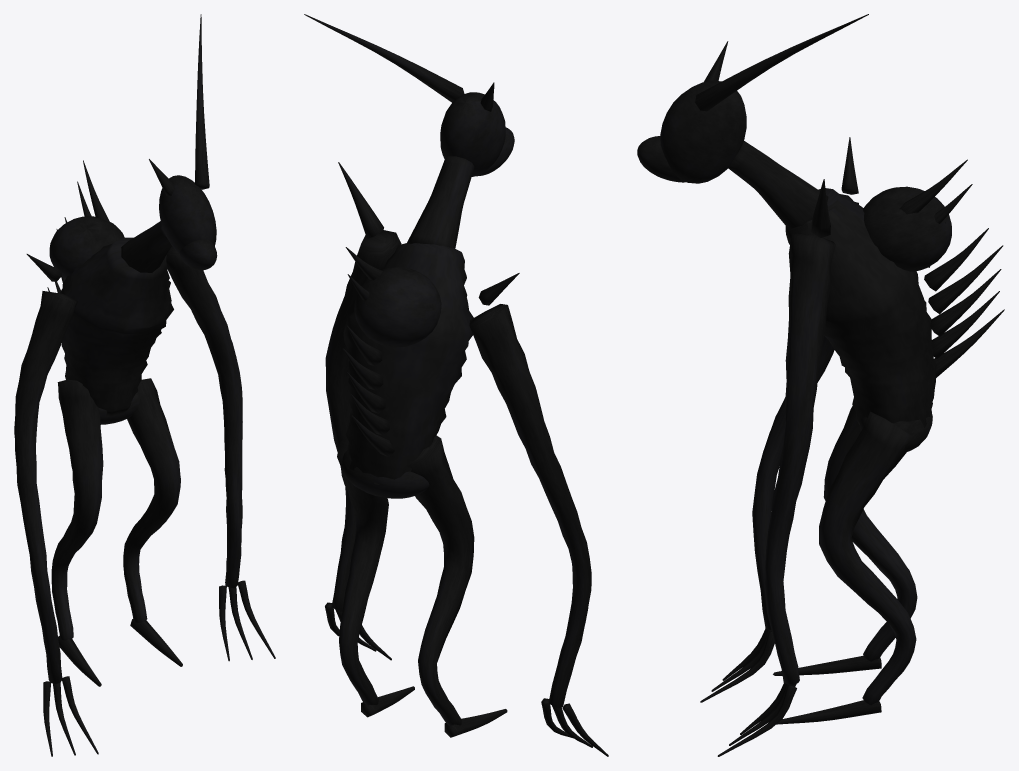
File: creature.obj
3 renders of one model, left to right at view 1: azimuth 30°, elevation 25°; view 2: azimuth 150°, elevation 25°; view 3: azimuth 270°, elevation 25°, orthographic. The views are drawn at different scales.
Parts seen in each view (by area): view 1: creature; view 2: creature; view 3: creature.
Boxes of the visible parts, <box> form: creature: <box>14,14,275,756</box>; creature: <box>304,14,608,756</box>; creature: <box>637,14,1004,756</box>.
Bounding box in the file's own units: 1.71 × 4.71 × 1.98.
Materials: 1 (1 with a texture image).
